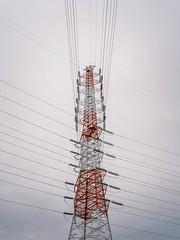power_tower: (64, 64, 121, 240)
